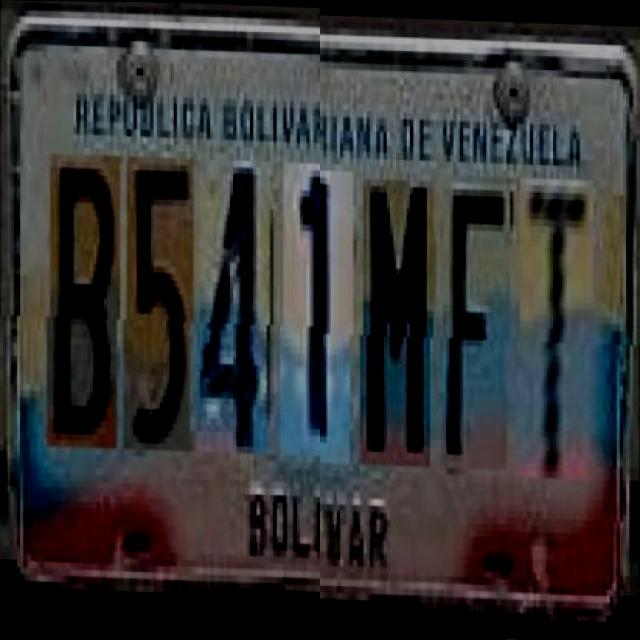1: (283, 167, 354, 461)
4: (200, 165, 271, 459)
5: (126, 162, 194, 457)
b: (51, 160, 120, 454)
f: (444, 172, 511, 467)
m: (363, 176, 434, 464)
t: (519, 173, 593, 475)
